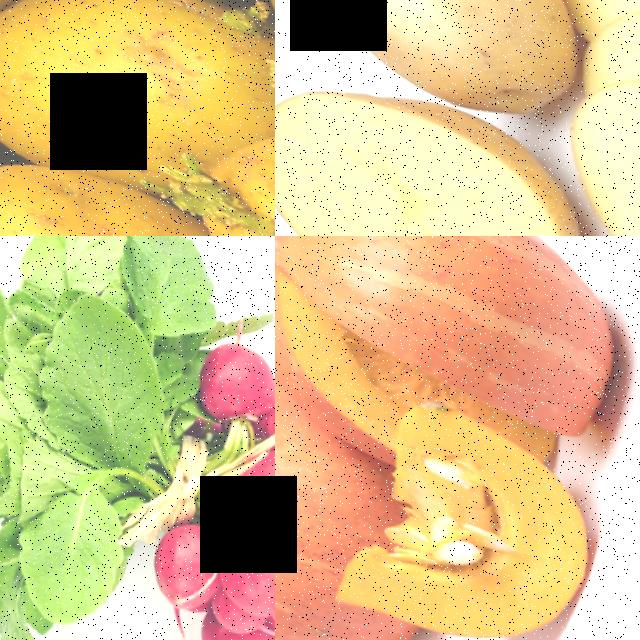potato: (275, 28, 612, 236), (0, 0, 275, 229), (275, 0, 633, 146), (0, 117, 275, 236), (164, 51, 275, 236)
pumpkin: (275, 236, 640, 468), (319, 385, 620, 640), (275, 341, 386, 640)
radishes: (56, 291, 275, 640)
